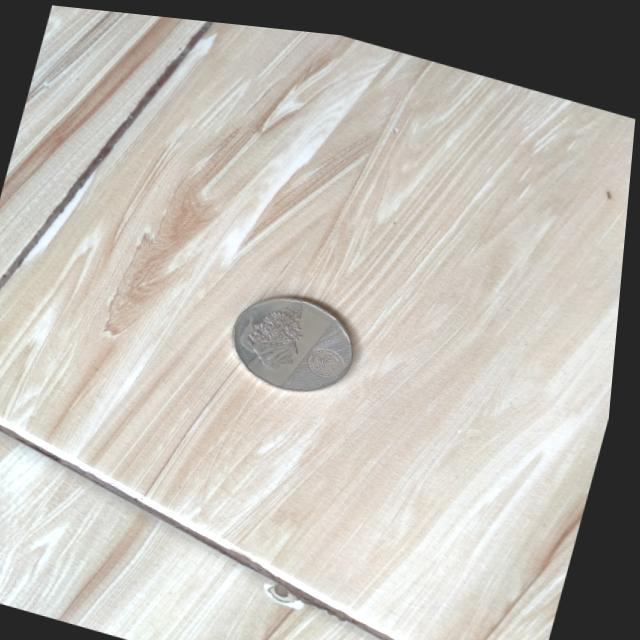10_New_Back: (231, 271, 326, 379)
